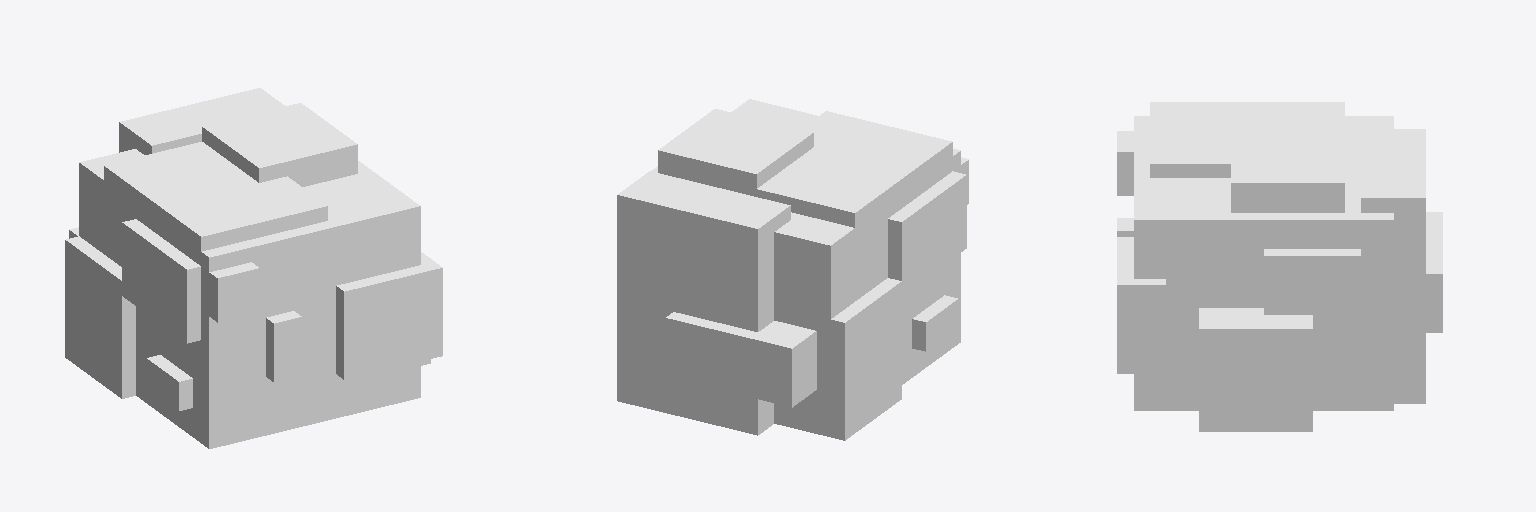
File: desertrock1.obj
3 views of the same model, side by side, from view 1: azimuth 30°, elevation 25°; view 2: azimuth 150°, elevation 25°; view 3: azimuth 270°, elevation 25° (orthographic).
Visible parts, largest first — view 1: desertrock1; view 2: desertrock1; view 3: desertrock1.
Part boxes in pixels (bbox=[...]): desertrock1: bbox=[65, 88, 442, 448]; desertrock1: bbox=[617, 99, 968, 440]; desertrock1: bbox=[1117, 102, 1442, 431].
Size of the model in its own units: 19 by 15 by 20.